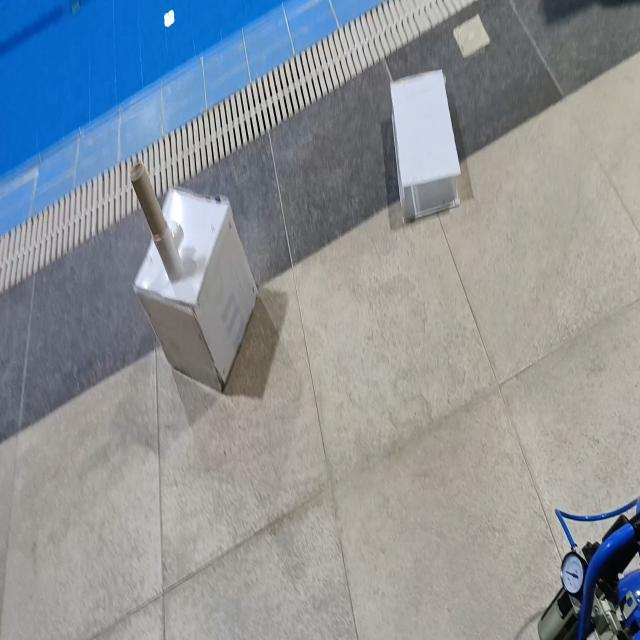Cube: (132, 185, 258, 392)
Cuboid: (389, 66, 462, 223)
